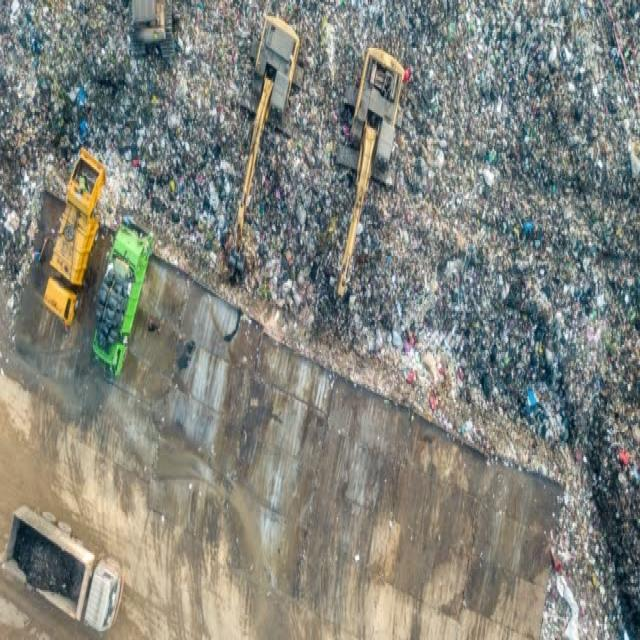plastic: (427, 39, 640, 455)
